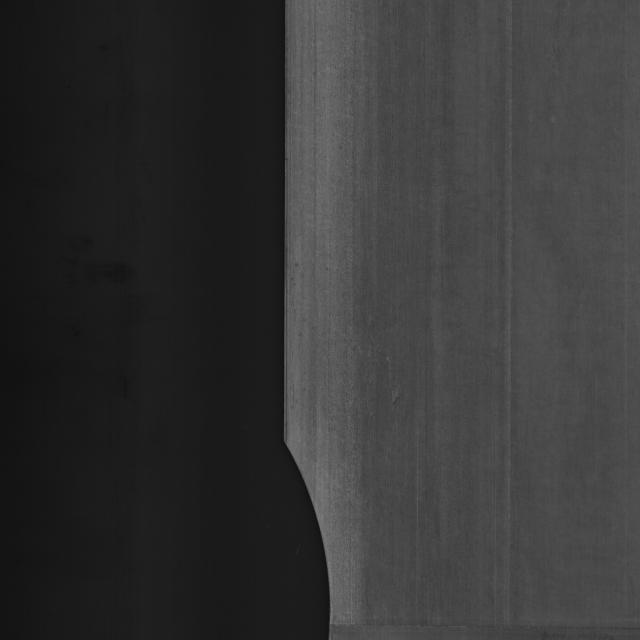silk_spot: (269, 389, 346, 639)
